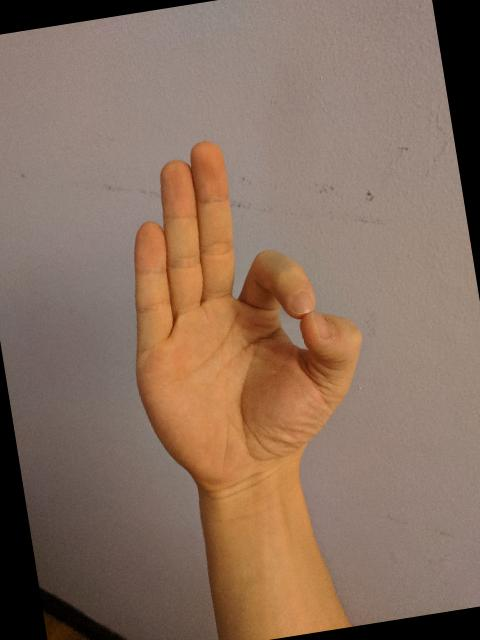F: (98, 115, 390, 510)
